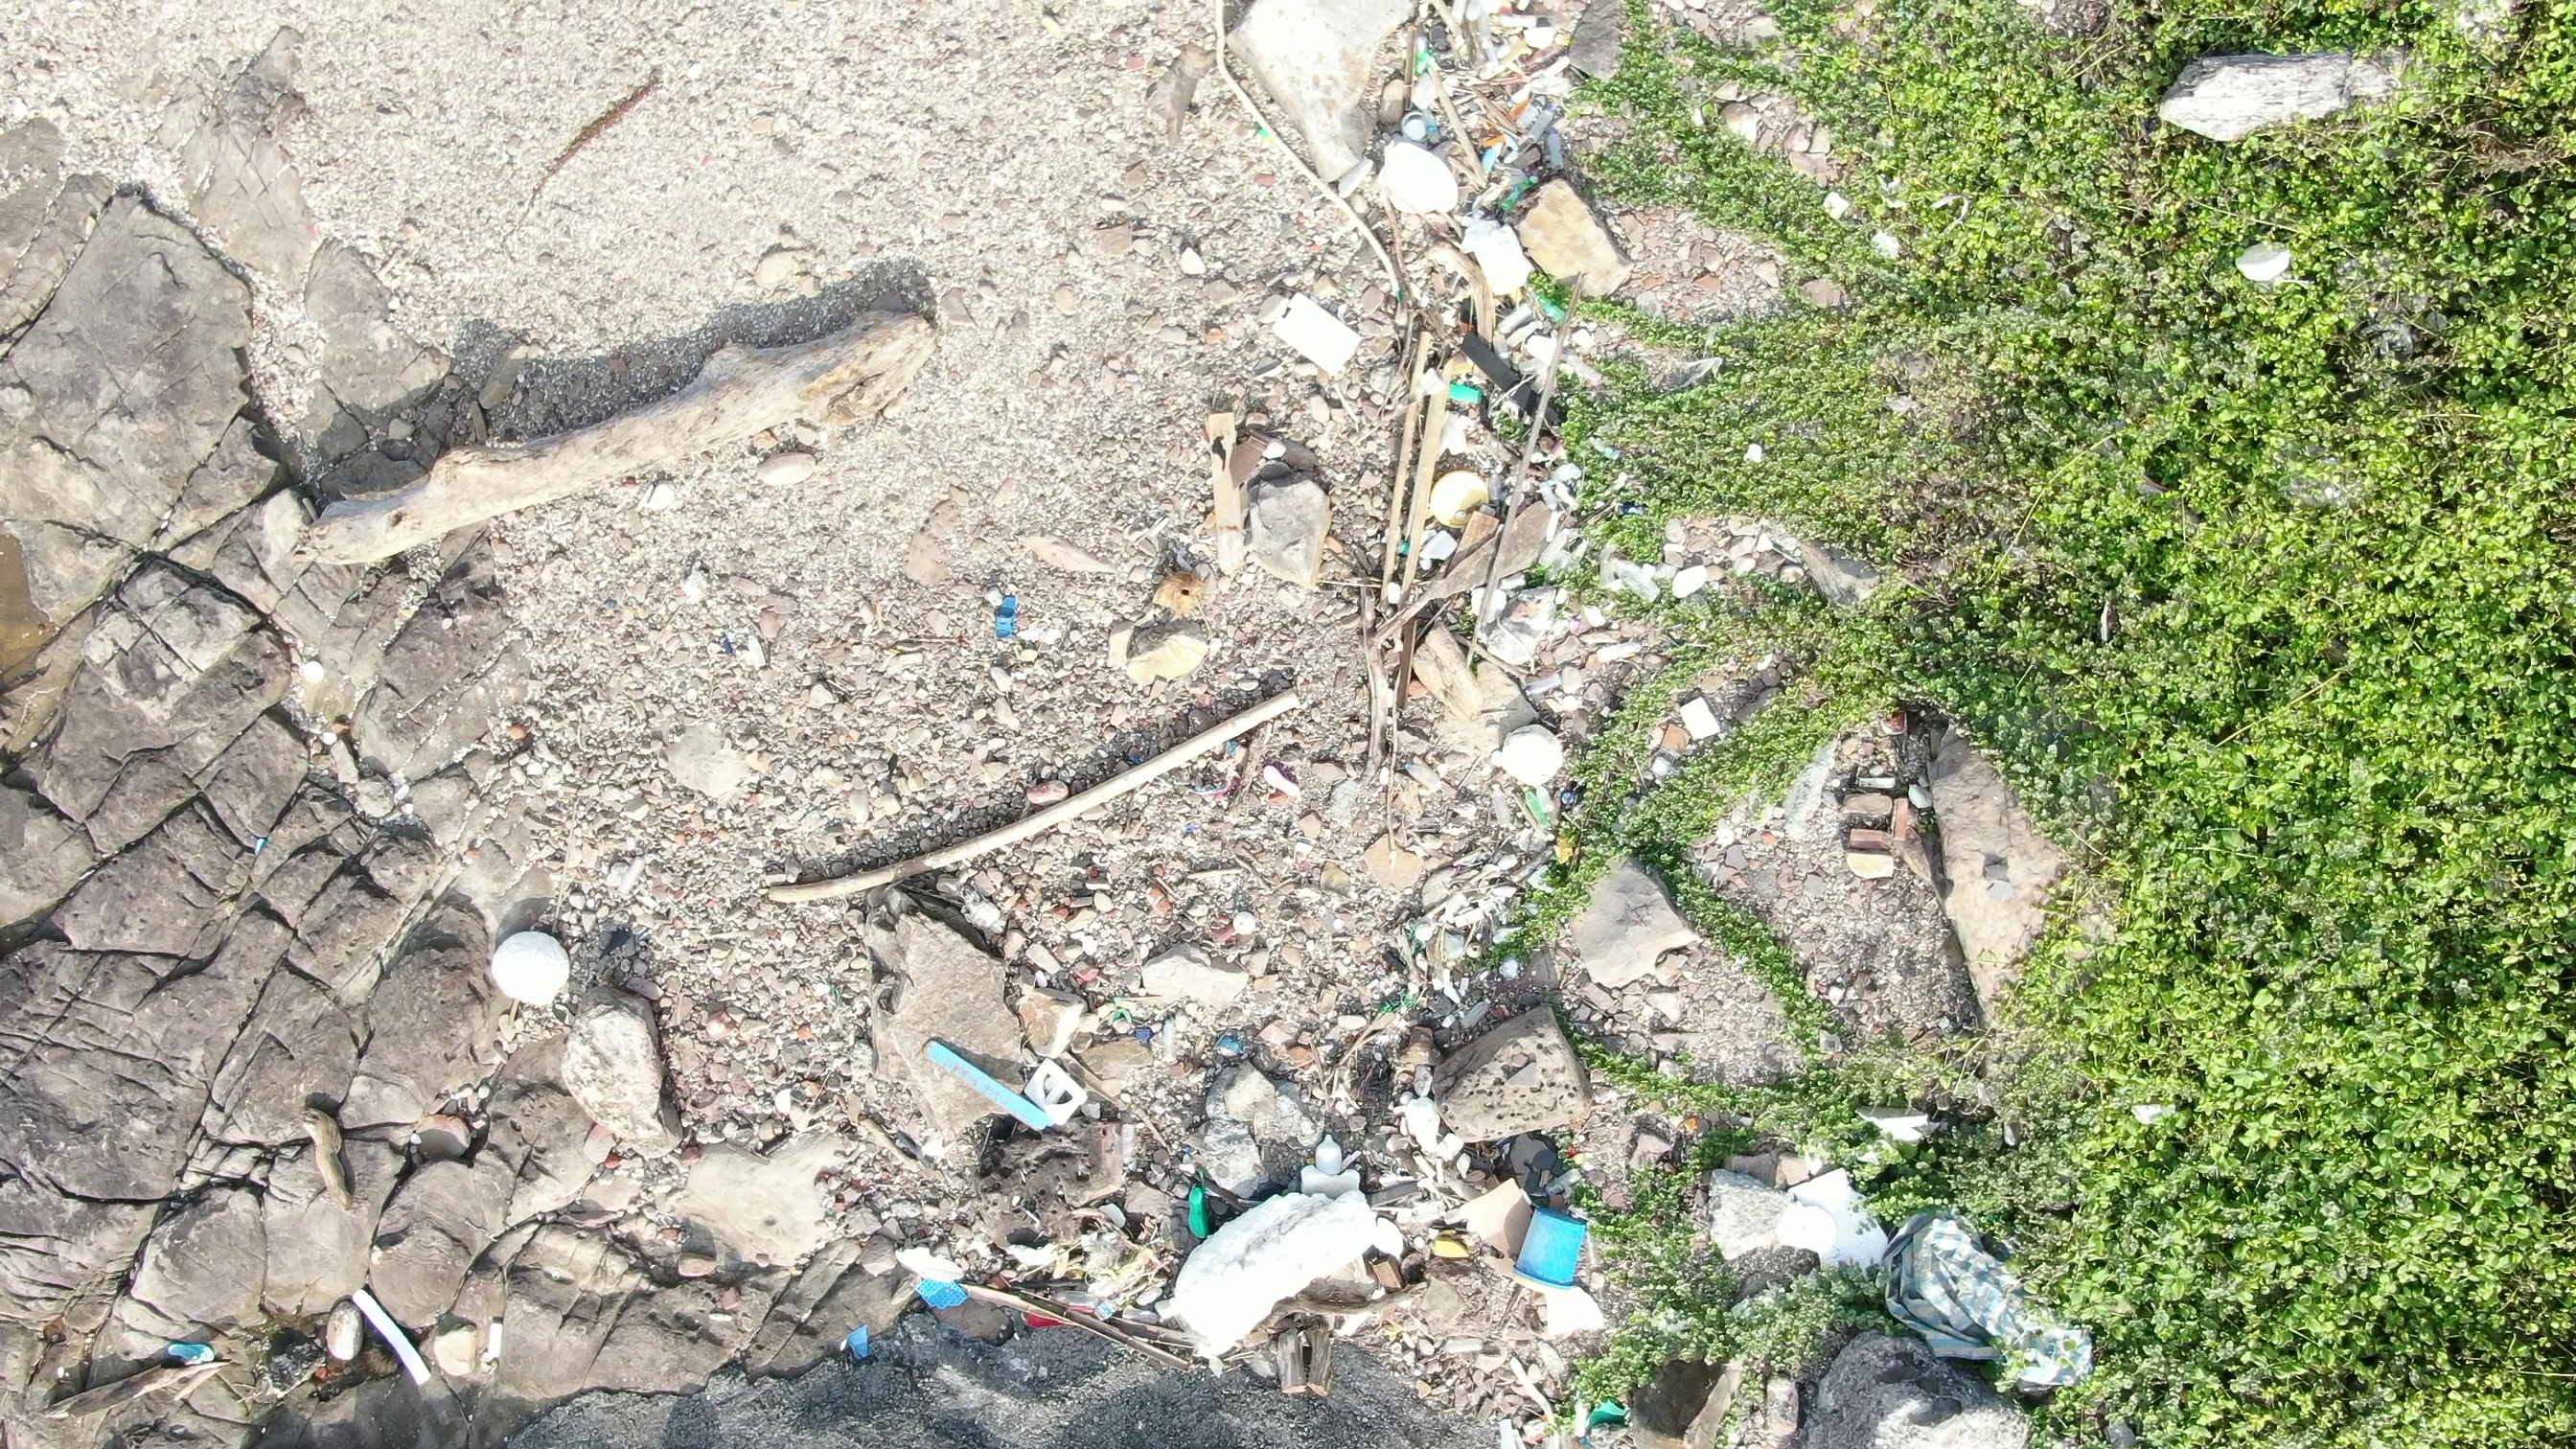garbage: (1168, 1035, 1670, 1449), (1706, 1139, 2114, 1401), (832, 1014, 1062, 1385), (1385, 18, 1576, 448), (980, 568, 1031, 669), (152, 1309, 226, 1378)
